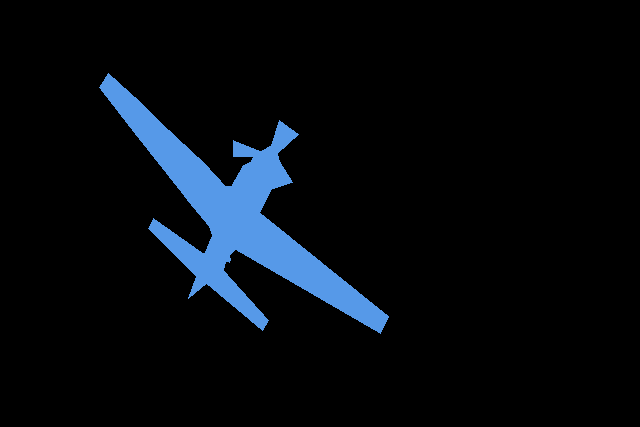Airplane: (99, 73, 388, 334)
